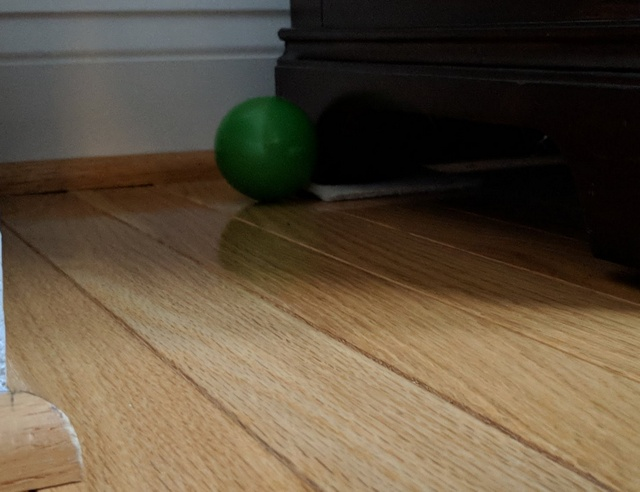ball: (211, 94, 323, 202)
